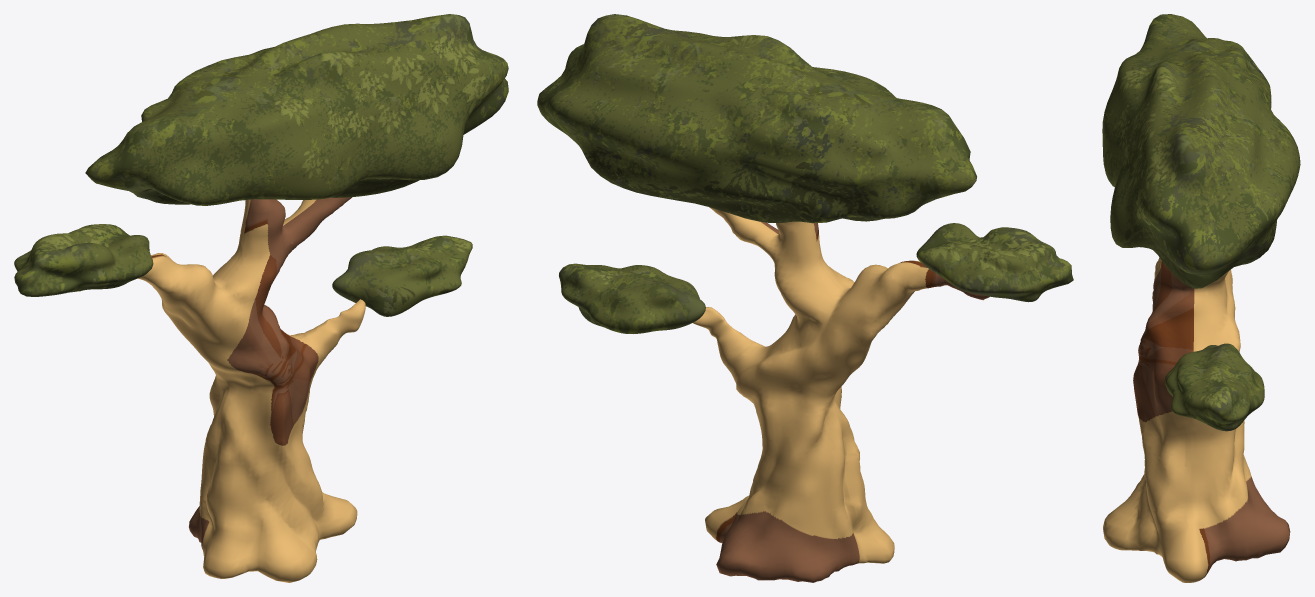
File: pretty Savannatree.fbx
3 views of the same model, side by side, from view 1: azimuth 30°, elevation 25°; view 2: azimuth 150°, elevation 25°; view 3: azimuth 270°, elevation 25° (orthographic).
Visible parts, largest first — view 1: Cylinder; view 2: Cylinder; view 3: Cylinder.
Part boxes in pixels (<box>): Cylinder: <box>14,14,508,582</box>; Cylinder: <box>537,14,1073,582</box>; Cylinder: <box>1102,14,1300,582</box>.
Bounding box in the file's own units: 1003 × 940 × 335.
